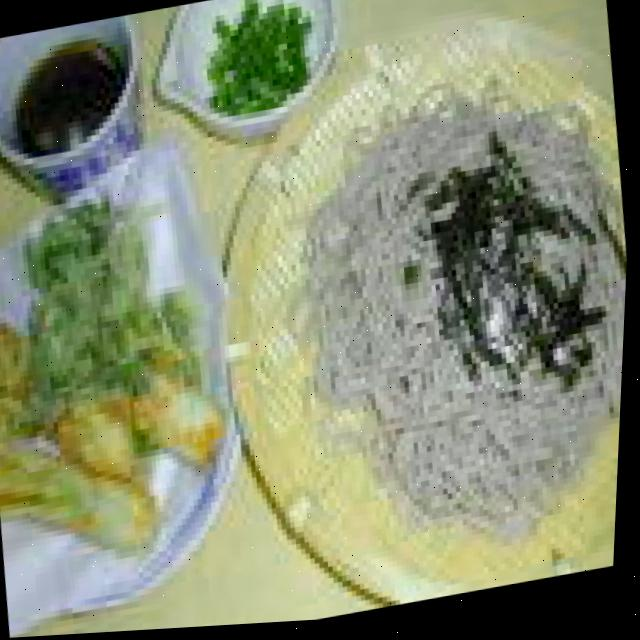面条主食: (161, 0, 640, 631)
